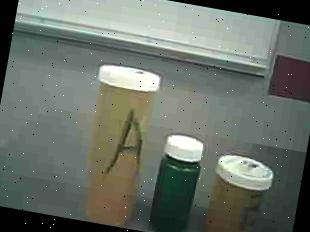Bottle A: (69, 59, 165, 231)
Bottle B: (198, 149, 280, 232)
Bottle C: (146, 128, 210, 232)
